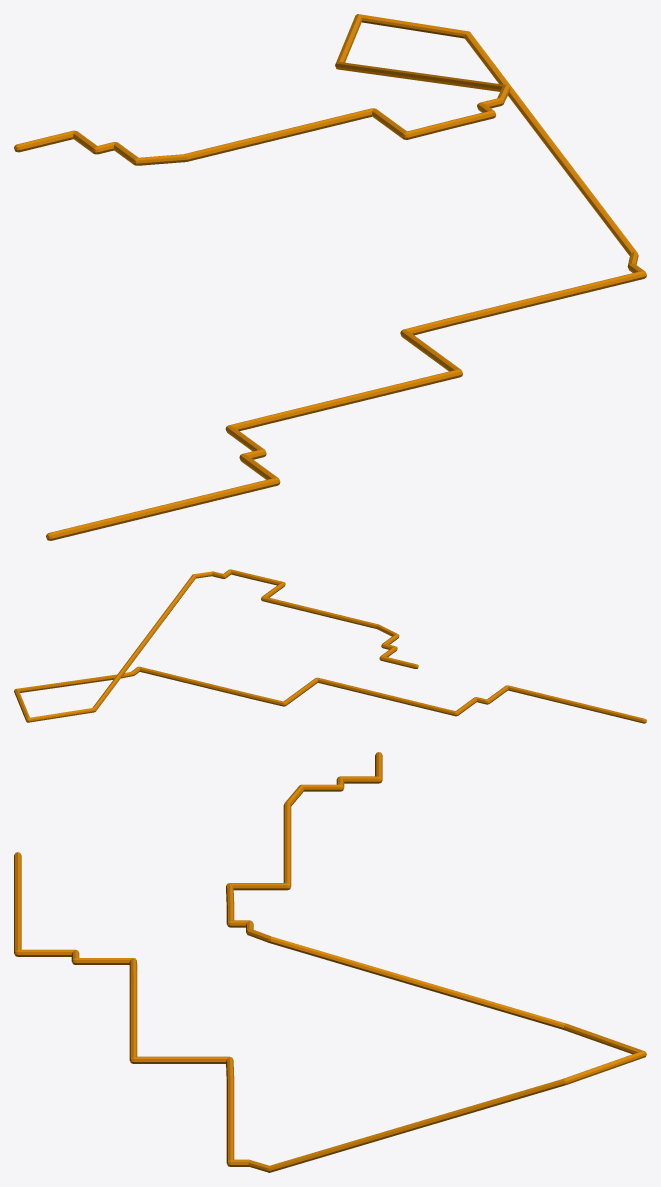
3 views of the same model, one above another, from view 1: azimuth 30°, elevation 25°; view 2: azimuth 150°, elevation 25°; view 3: azimuth 270°, elevation 25° (orthographic). The views are drawn at different scales.
Bounding box in the file's own units: 1948 × 520 × 1645.
